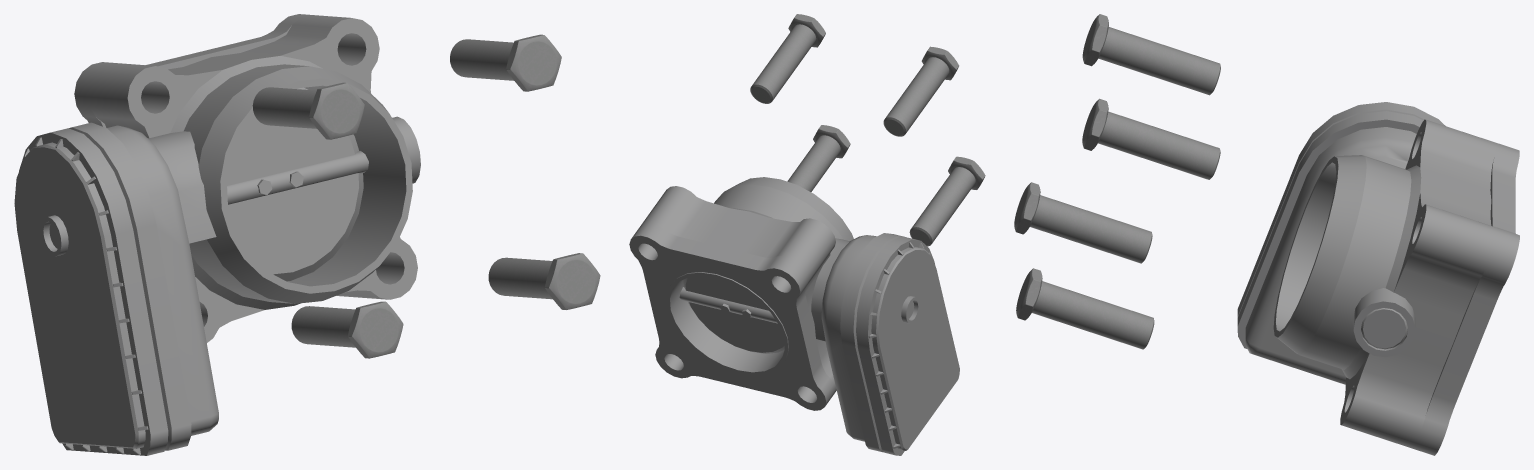
Rendered from throttle.glb.
The picture shows the model from 3 angles, left to right: view 1: azimuth 30°, elevation 25°; view 2: azimuth 150°, elevation 25°; view 3: azimuth 270°, elevation 25°; orthographic projection. The views are drawn at different scales.
Parts seen in each view (by area): view 1: v8_przepustnica_2(0), Obj_srubaSilnikDluga1_1, Obj_srubaSilnikDluga1, srubaSilnikDluga_0, Obj_srubaSilnikDluga_0; view 2: v8_przepustnica_2(0), Obj_srubaSilnikDluga_0, Obj_srubaSilnikDluga1, Obj_srubaSilnikDluga1_1, srubaSilnikDluga_0; view 3: v8_przepustnica_2(0), Obj_srubaSilnikDluga1_1, srubaSilnikDluga_0, Obj_srubaSilnikDluga1, Obj_srubaSilnikDluga_0.
Boxes of the visible parts, x1,y1,x2,y2 form: v8_przepustnica_2(0): (14, 14, 420, 455); Obj_srubaSilnikDluga1_1: (291, 301, 403, 358); Obj_srubaSilnikDluga1: (450, 34, 561, 91); srubaSilnikDluga_0: (488, 253, 600, 309); Obj_srubaSilnikDluga_0: (252, 82, 364, 139); v8_przepustnica_2(0): (629, 177, 959, 455); Obj_srubaSilnikDluga_0: (883, 46, 959, 136); Obj_srubaSilnikDluga1: (750, 14, 825, 103); Obj_srubaSilnikDluga1_1: (909, 156, 985, 246); srubaSilnikDluga_0: (787, 125, 850, 191); v8_przepustnica_2(0): (1237, 102, 1519, 455); Obj_srubaSilnikDluga1_1: (1014, 182, 1152, 263); srubaSilnikDluga_0: (1016, 268, 1154, 349); Obj_srubaSilnikDluga1: (1082, 98, 1220, 179); Obj_srubaSilnikDluga_0: (1082, 14, 1220, 95).
Size of the model in its own units: 0.0022 by 0.00273 by 0.0031.
Materials: 2 (1 with a texture image).
